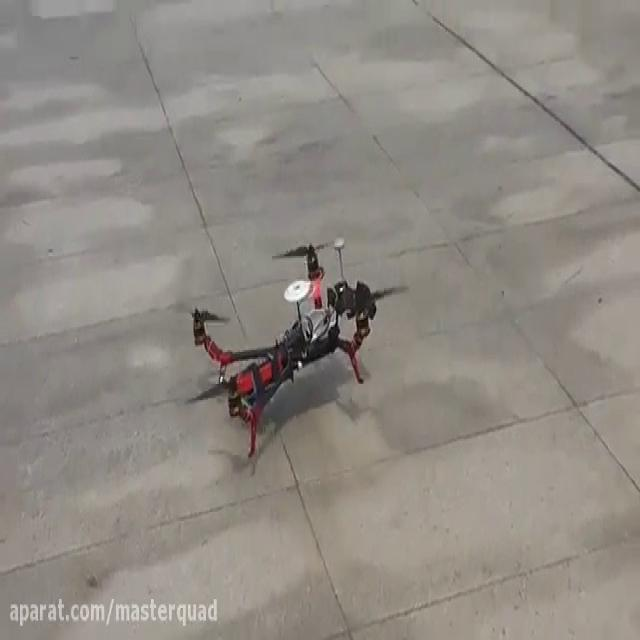drone: (154, 228, 415, 464)
